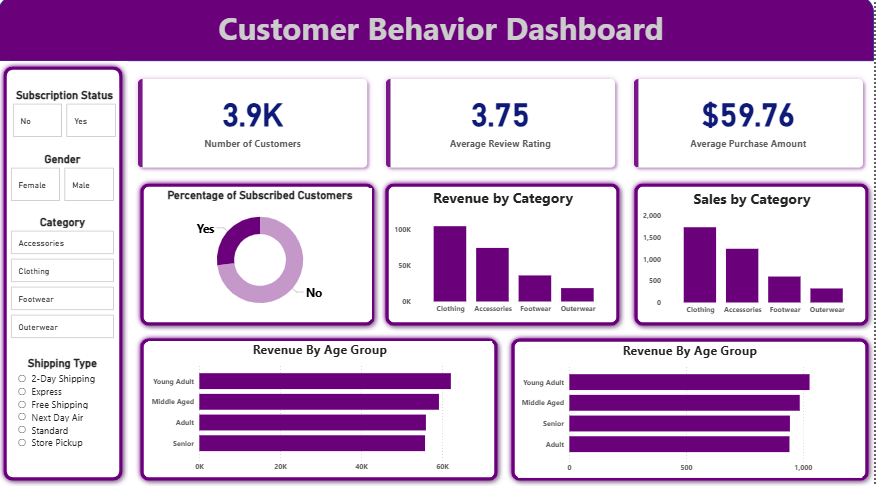

The page's visual inventory and layout, read from the dashboard file:
{"tool":"powerbi","page":{"name":"Page 1","canvas":[1501,840],"ordinal":0},"visuals":[{"type":"cardVisual","fields":{"Data":["public customer.Number of Customers","public customer.Average Review Rating","public customer.Average Purchase Amount"]},"box":[222.9,125.1,1278.9,186.9],"z":0},{"type":"shape","box":[0,0,1501.7,112],"z":1},{"type":"textbox","box":[195.4,12,1128,99.4],"z":2},{"type":"shape","box":[234.9,312,420,262.3],"z":3},{"type":"donutChart","title":"Percentage of Subscribed Customers","fields":{"Category":["public customer.subscription_status"],"Y":["CountNonNull(public customer.customer_id)"]},"box":[257.1,329.1,384,224.6],"z":4},{"type":"shape","box":[1081.7,312,420,262.3],"z":5},{"type":"shape","box":[654.9,312,420,262.3],"z":6},{"type":"clusteredColumnChart","title":"Revenue by Category","fields":{"Category":["public customer.category"],"Y":["Sum(public customer.purchase_amount)"]},"box":[673.7,329.1,384,224.6],"z":7},{"type":"clusteredColumnChart","title":"Sales by Category","fields":{"Category":["public customer.category"],"Y":["CountNonNull(public customer.customer_id)"]},"box":[1100.6,330.9,384,224.6],"z":8},{"type":"shape","box":[0,111.4,222.9,728.6],"z":9},{"type":"advancedSlicerVisual","title":"Subscription Status","fields":{"Values":["public customer.subscription_status"]},"box":[20.6,157.7,186.9,89.1],"z":10},{"type":"advancedSlicerVisual","title":"Gender","fields":{"Values":["public customer.gender"]},"box":[17.1,267.4,186.9,89.1],"z":11},{"type":"advancedSlicerVisual","title":"Category","fields":{"Values":["public customer.category"]},"box":[17.1,375.4,186.9,216],"z":12},{"type":"listSlicer","title":"Shipping Type","fields":{"Values":["public customer.shipping_type"]},"box":[27.4,617.1,166.3,207.4],"z":13},{"type":"shape","box":[234.9,577.7,630.9,262.3],"z":14},{"type":"shape","box":[870.9,577.7,630.9,262.3],"z":15},{"type":"clusteredBarChart","title":"Revenue By Age Group","fields":{"Category":["public customer.age_group"],"Y":["Sum(public customer.purchase_amount)"]},"box":[257.1,591.4,589.7,233.1],"z":16},{"type":"clusteredBarChart","title":"Revenue By Age Group","fields":{"Category":["public customer.age_group"],"Y":["CountNonNull(public customer.customer_id)"]},"box":[891.4,593.1,589.7,233.1],"z":17}]}

Visuals, with their boxes in screenshot pixels (x1, y1, x2, y2), scaled from the page's 1501x840 canvas onto the 876x486 screenshot:
cardVisual - public customer.Number of Customers x public customer.Average Review Rating: {"x1": 130, "y1": 72, "x2": 875, "y2": 181}
shape: {"x1": 0, "y1": 0, "x2": 875, "y2": 65}
textbox: {"x1": 114, "y1": 7, "x2": 772, "y2": 64}
shape: {"x1": 137, "y1": 181, "x2": 382, "y2": 332}
"Percentage of Subscribed Customers" donutChart: {"x1": 150, "y1": 190, "x2": 374, "y2": 320}
shape: {"x1": 631, "y1": 181, "x2": 875, "y2": 332}
shape: {"x1": 382, "y1": 181, "x2": 627, "y2": 332}
"Revenue by Category" clusteredColumnChart: {"x1": 393, "y1": 190, "x2": 617, "y2": 320}
"Sales by Category" clusteredColumnChart: {"x1": 642, "y1": 191, "x2": 866, "y2": 321}
shape: {"x1": 0, "y1": 64, "x2": 130, "y2": 485}
"Subscription Status" advancedSlicerVisual: {"x1": 12, "y1": 91, "x2": 121, "y2": 143}
"Gender" advancedSlicerVisual: {"x1": 10, "y1": 155, "x2": 119, "y2": 206}
"Category" advancedSlicerVisual: {"x1": 10, "y1": 217, "x2": 119, "y2": 342}
"Shipping Type" listSlicer: {"x1": 16, "y1": 357, "x2": 113, "y2": 477}
shape: {"x1": 137, "y1": 334, "x2": 505, "y2": 485}
shape: {"x1": 508, "y1": 334, "x2": 875, "y2": 485}
"Revenue By Age Group" clusteredBarChart: {"x1": 150, "y1": 342, "x2": 494, "y2": 477}
"Revenue By Age Group" clusteredBarChart: {"x1": 520, "y1": 343, "x2": 864, "y2": 478}
